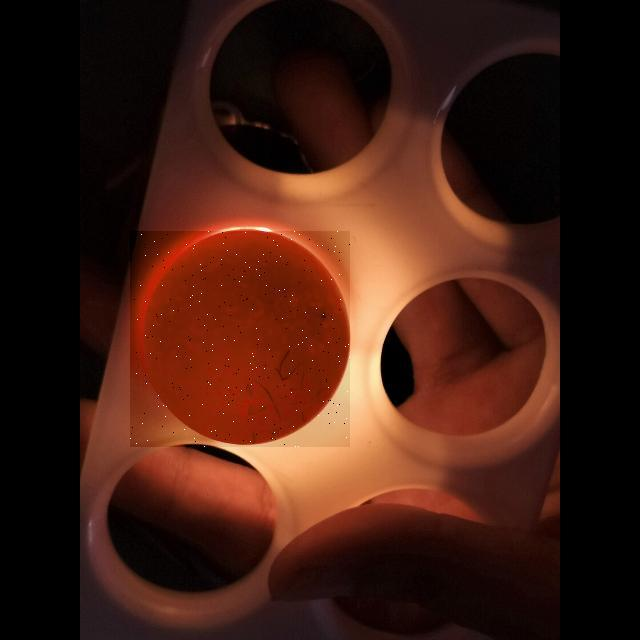Infertile: (130, 231, 350, 447)
